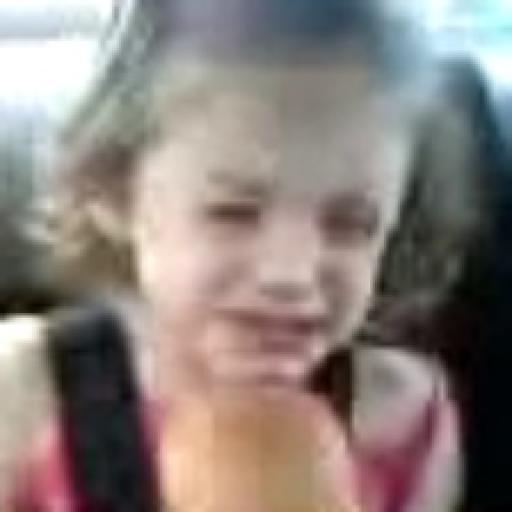Autism: (87, 12, 420, 402)
